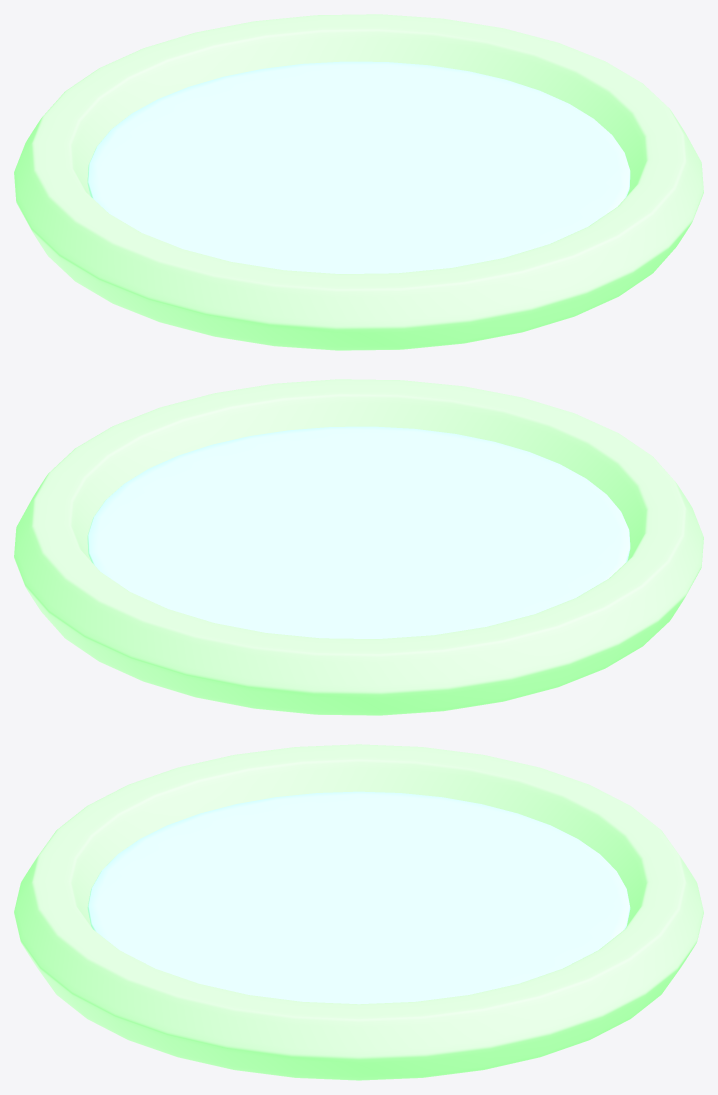
Rendered from exit_portal.glb.
3 renders of one model, top to bottom at view 1: azimuth 30°, elevation 25°; view 2: azimuth 150°, elevation 25°; view 3: azimuth 270°, elevation 25°, orthographic.
Parts seen in each view (by area): view 1: exit_portal; view 2: exit_portal; view 3: exit_portal.
Part boxes in pixels (x1=…): exit_portal: x1=14, y1=14, x2=703, y2=350; exit_portal: x1=14, y1=379, x2=703, y2=715; exit_portal: x1=14, y1=744, x2=703, y2=1080.
Size of the model in its own units: 0.875 by 0.0866 by 0.875.
